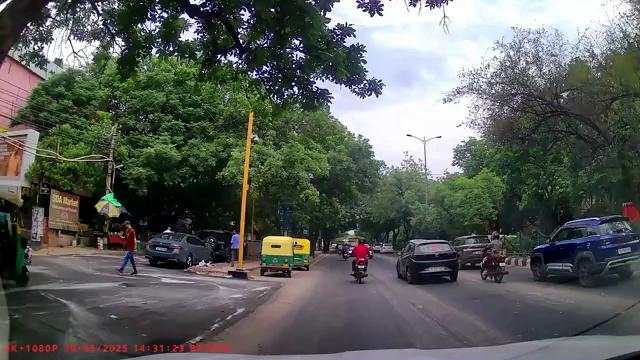motorcycle_with_helmet: (479, 231, 507, 284), (349, 236, 370, 284)
